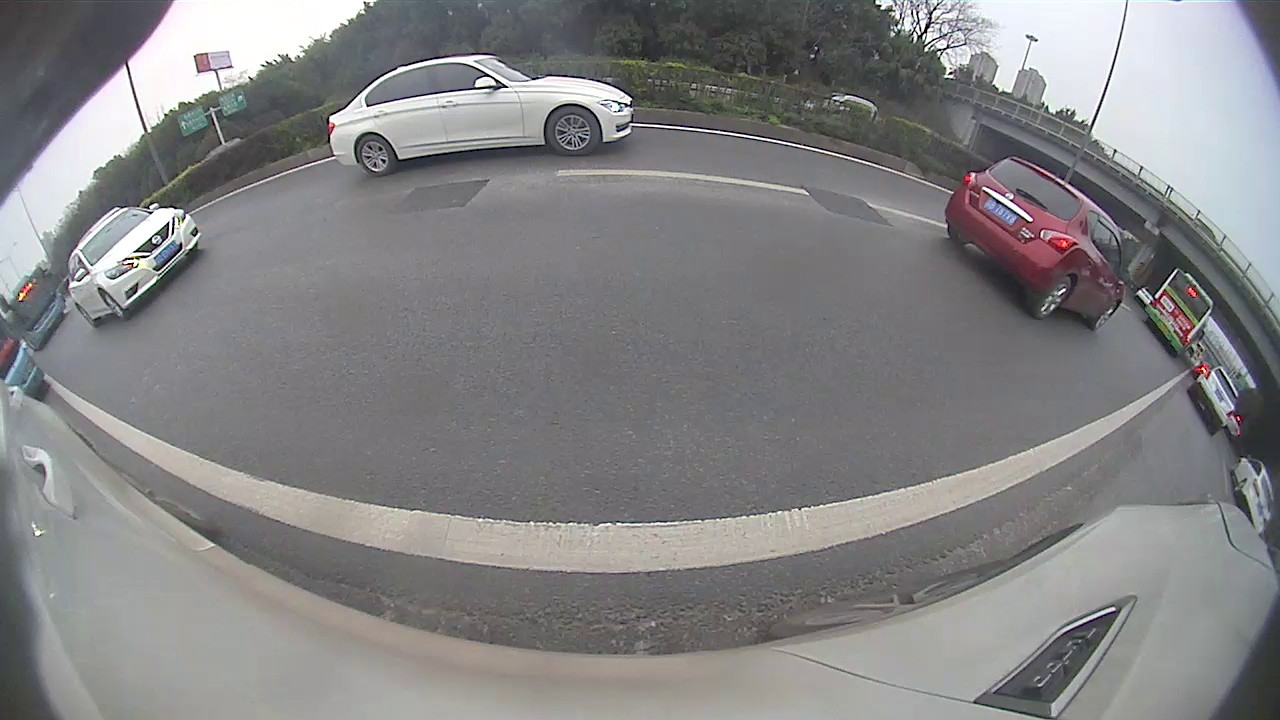bus: (1145, 267, 1214, 357)
car: (326, 54, 635, 179), (944, 154, 1127, 333), (64, 203, 202, 326), (1190, 363, 1240, 432)
front: (544, 104, 602, 160), (101, 289, 128, 322), (1089, 301, 1117, 331)
rear: (355, 133, 400, 178), (1032, 276, 1075, 323)
